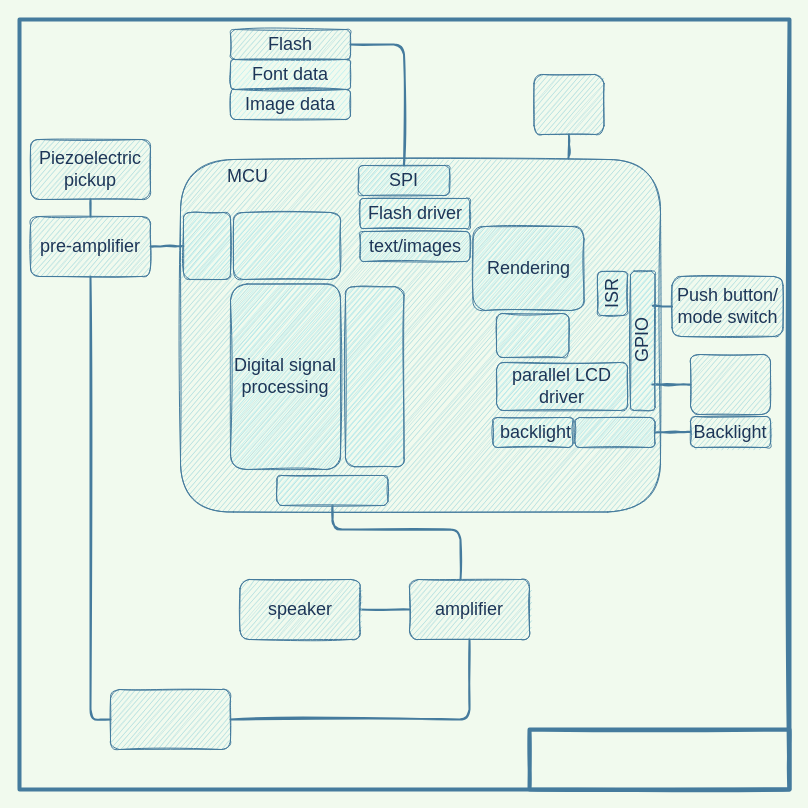
Some shapes in this 808 by 808 pixel diagram are drawn without their labels. The shapes that lost their labels are listed below. From the top down, each one's centre as x and y in pixels, then its label:
At (x=568, y=104): "Battery".
At (x=206, y=246): "ADC".
At (x=286, y=246): "Piezoelectric sensor driver".
At (x=532, y=335): "Screen buffer".
At (x=374, y=376): "Sound effect mode manager".
At (x=730, y=384): "LCD".
At (x=614, y=432): "PWM I/O".
At (x=332, y=490): "DAC".
At (x=170, y=719): "Li-ion battery".
At (x=659, y=759): "Software Architecture Diagram".
